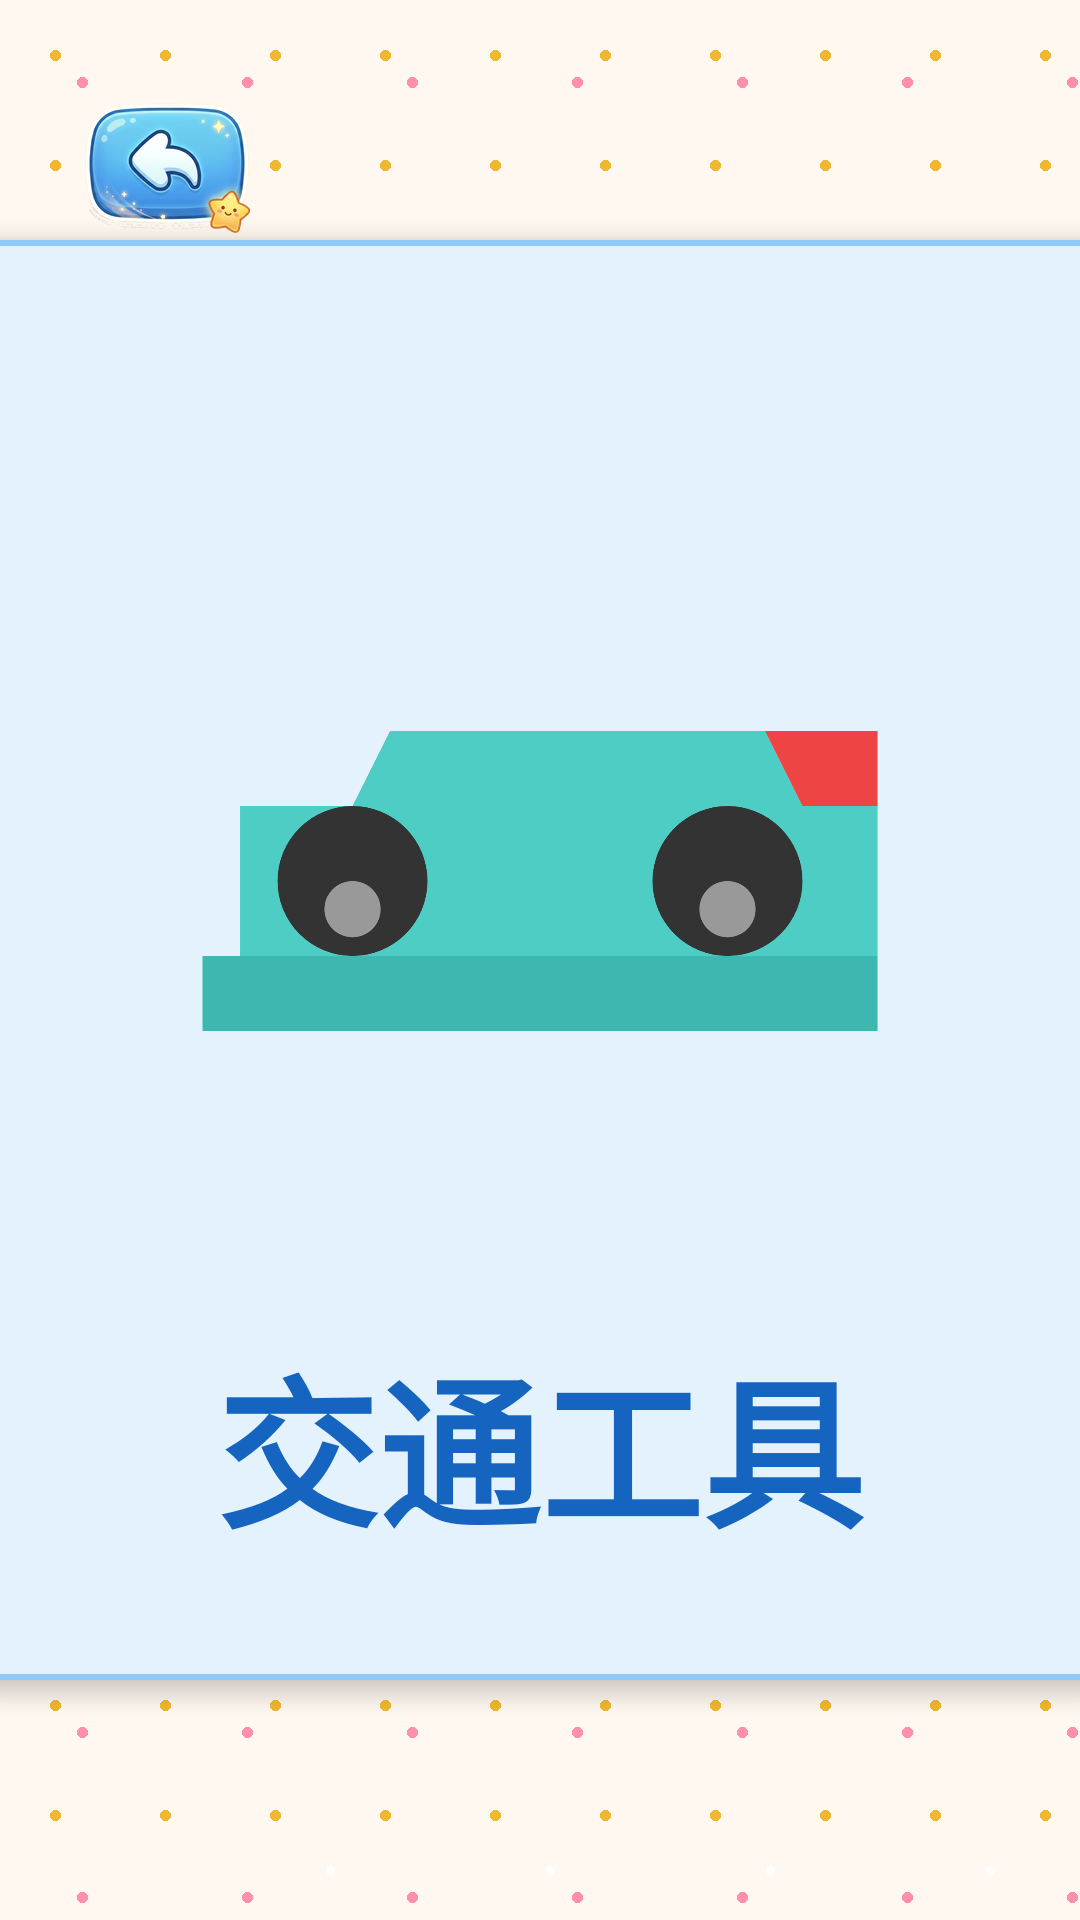

Locate icon controls on the screen. Image size 1080px x 1920px, boxes as bbox=(x1, y1, x2, y2).
Back: bbox=(50, 50, 281, 233)
